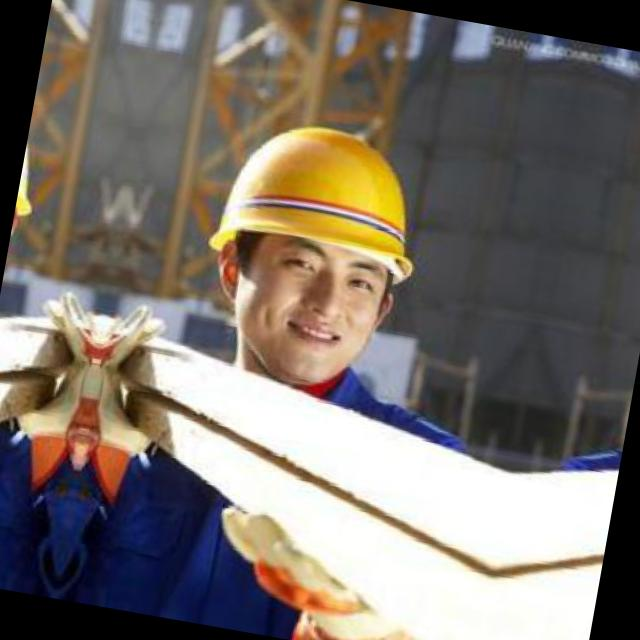helmet: (155, 82, 463, 420)
